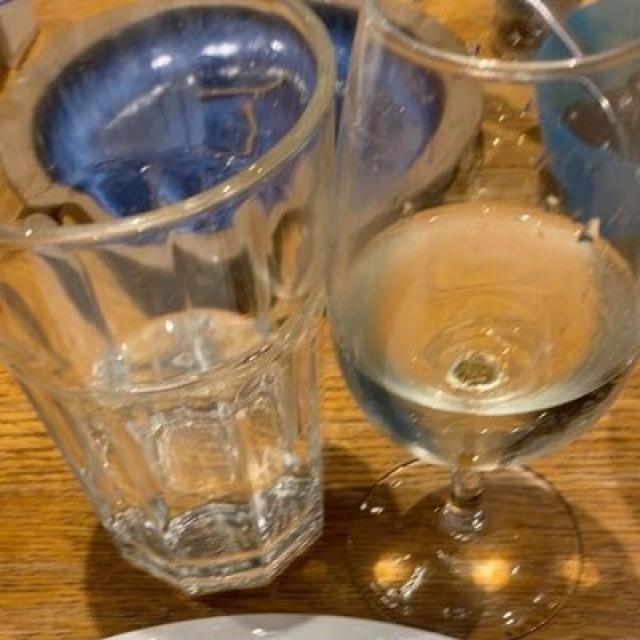water: (89, 314, 322, 581)
wine: (327, 209, 633, 464)
